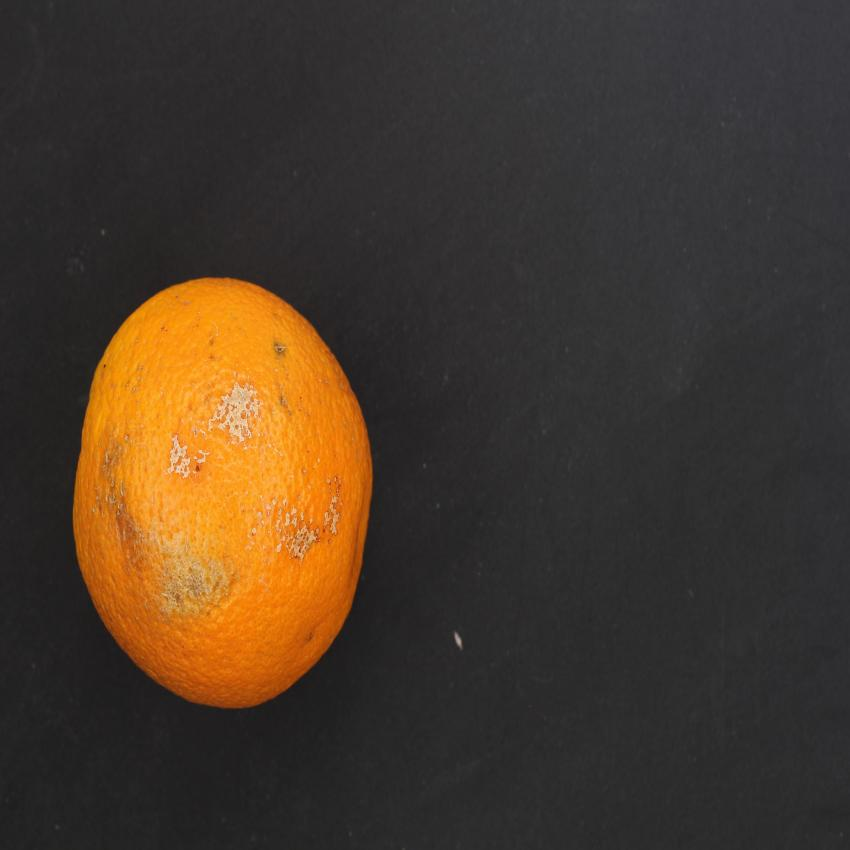Mal estado: (67, 260, 381, 724)
